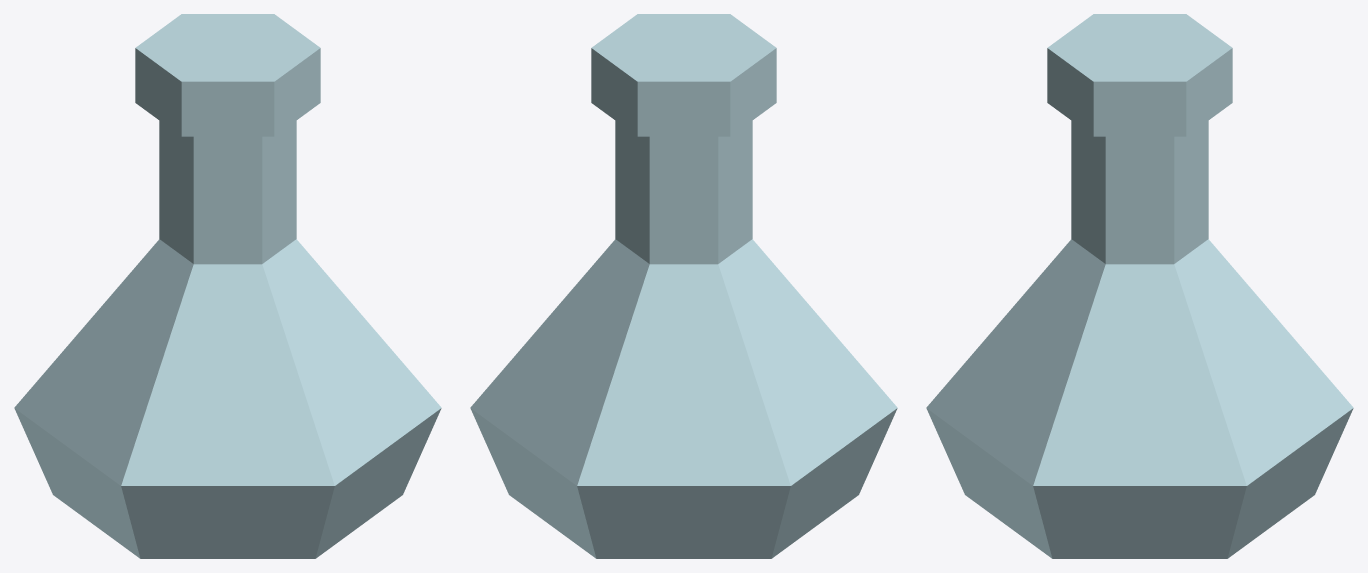
File: healthPotion.fbx
3 views of the same model, side by side, from view 1: azimuth 30°, elevation 25°; view 2: azimuth 150°, elevation 25°; view 3: azimuth 270°, elevation 25° (orthographic).
Visible parts, largest first — view 1: healthPotion; view 2: healthPotion; view 3: healthPotion.
Boxes of the visible parts, left/top/right/bottom form: healthPotion: left=14, top=14, right=441, bottom=558; healthPotion: left=470, top=14, right=897, bottom=558; healthPotion: left=926, top=14, right=1353, bottom=558.
Size of the model in its own units: 20.58 by 27.41 by 23.76.
